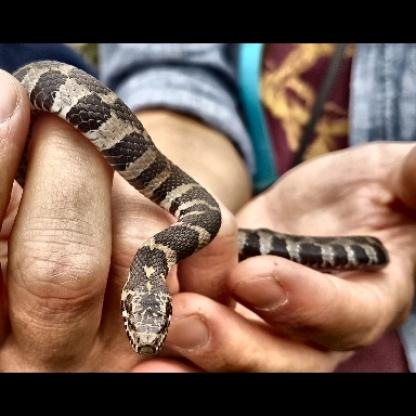Snake: (6, 61, 394, 362)
